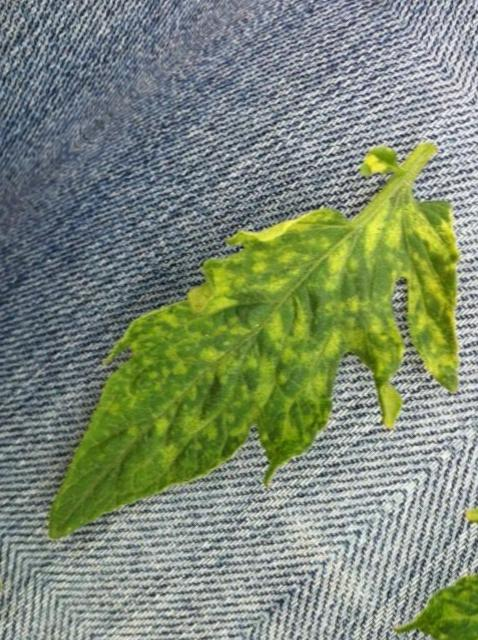Tomato leaf mosaic virus: (0, 75, 478, 640)
